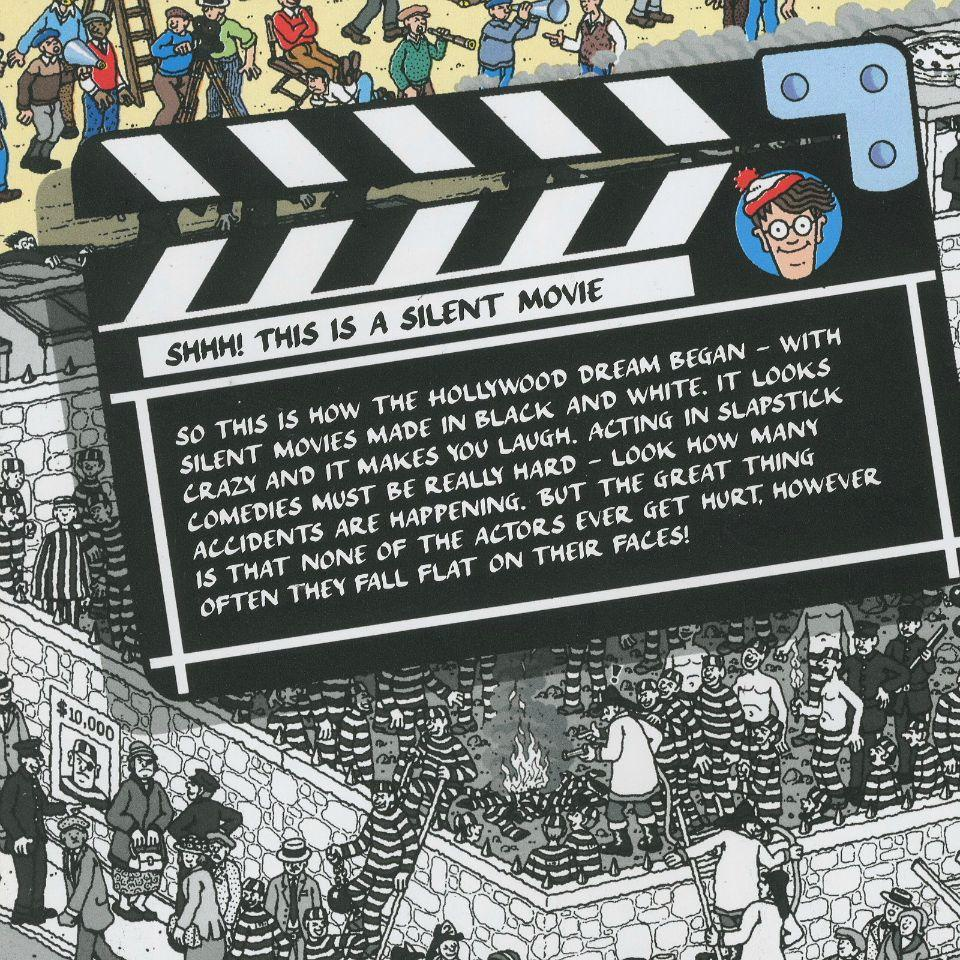waldo: (735, 168, 845, 280)
